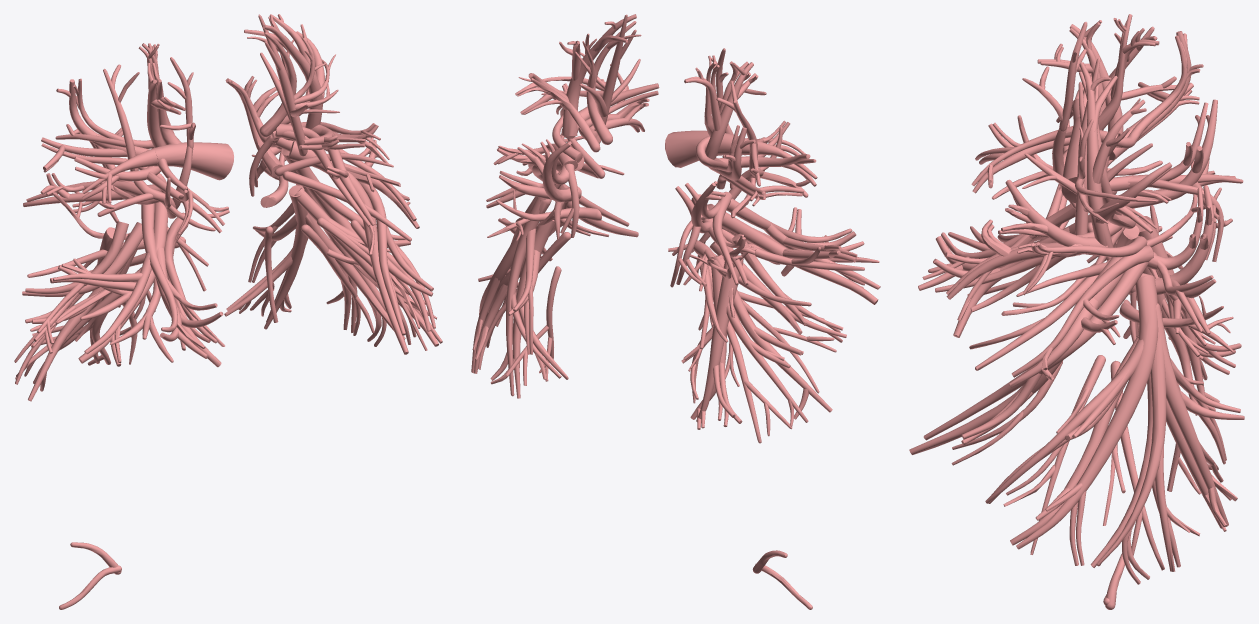
Rendered from lung.glb.
3 renders of one model, left to right at view 1: azimuth 30°, elevation 25°; view 2: azimuth 150°, elevation 25°; view 3: azimuth 270°, elevation 25°, orthographic. The views are drawn at different scales.
Visible parts, largest first — view 1: right lung; view 2: right lung; view 3: right lung.
Part boxes in pixels (x1,y1,x2,y2): right lung: (14, 14, 442, 609); right lung: (471, 14, 880, 609); right lung: (909, 14, 1244, 609).
Bounding box in the file's own units: 0.242 × 0.3413 × 0.1575.
